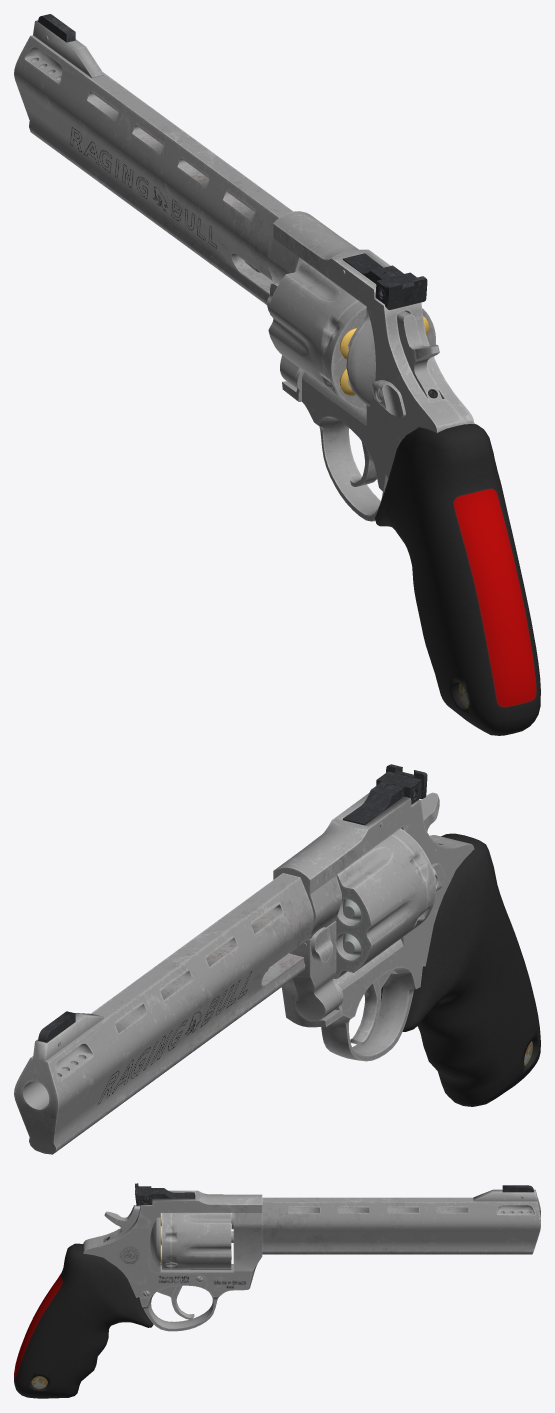
The picture shows the model from 3 angles, top to bottom: view 1: azimuth 30°, elevation 25°; view 2: azimuth 150°, elevation 25°; view 3: azimuth 270°, elevation 25°; orthographic projection. The views are drawn at different scales.
Visible parts, largest first — view 1: Grip_LP, Barrel_LP, Frame_LP, Cylinder_LP, Sight_LP, Hammer_LP; view 2: Barrel_LP, Grip_LP, Frame_LP, Cylinder_LP, Carane_LP, Sight_LP, Trigger_LP, FrontLock_LP, FrontSight_LP, Hammer_LP; view 3: Barrel_LP, Grip_LP, Frame_LP, Cylinder_LP, Sight_LP, Hammer_LP, Trigger_LP.
Part boxes in pixels (<box>): Grip_LP: <box>375,423,540,735</box>; Barrel_LP: <box>14,20,292,304</box>; Frame_LP: <box>267,211,474,521</box>; Cylinder_LP: <box>268,260,435,410</box>; Sight_LP: <box>343,253,427,309</box>; Hammer_LP: <box>397,311,441,401</box>; Barrel_LP: <box>14,873,313,1154</box>; Grip_LP: <box>380,833,540,1106</box>; Frame_LP: <box>273,793,474,1061</box>; Cylinder_LP: <box>333,828,435,978</box>; Carane_LP: <box>291,921,340,1021</box>; Sight_LP: <box>342,764,427,825</box>; Trigger_LP: <box>350,970,392,1045</box>; FrontLock_LP: <box>311,927,332,962</box>; FrontSight_LP: <box>38,1011,75,1042</box>; Hammer_LP: <box>421,792,439,844</box>; Barrel_LP: <box>231,1189,540,1254</box>; Grip_LP: <box>14,1243,153,1398</box>; Frame_LP: <box>83,1190,262,1331</box>; Cylinder_LP: <box>162,1213,231,1269</box>; Sight_LP: <box>135,1183,195,1205</box>; Hammer_LP: <box>103,1205,140,1242</box>; Trigger_LP: <box>157,1286,194,1319</box>.
Bounding box in the file's own units: 45.13 × 158 × 360.
Materials: 1 (1 with a texture image).
